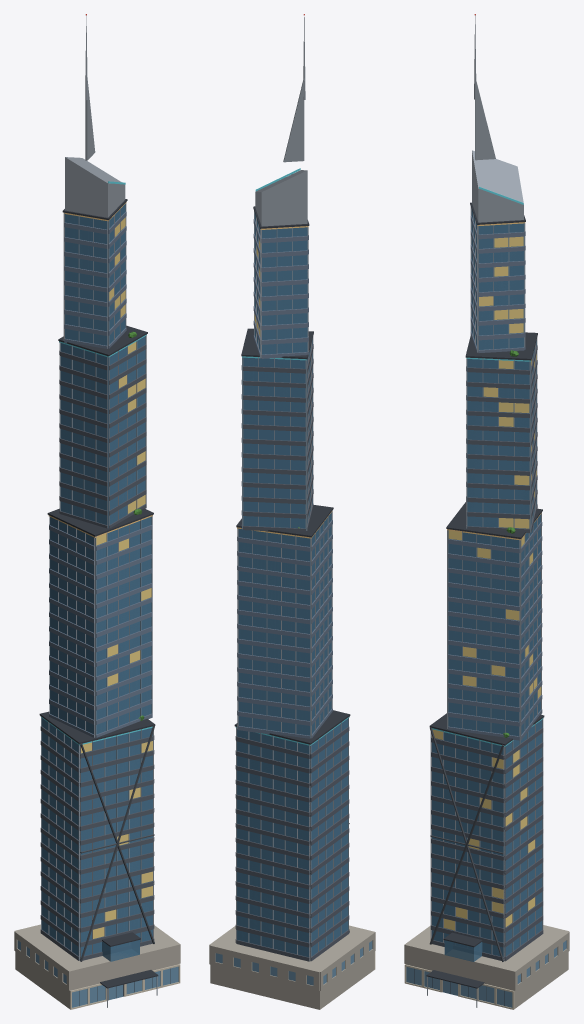
Rendered from BUILDING_20.obj.
The picture shows the model from 3 angles, left to right: view 1: azimuth 30°, elevation 25°; view 2: azimuth 150°, elevation 25°; view 3: azimuth 330°, elevation 25°; orthographic projection.
Visible parts, largest first — view 1: facade_floor02, facade_floor17, facade_floor31, mullions, facade_floor43, podium, crown, exoskeleton, storefront_glass, walls_floor01, sky_lobby, tier0_cap (+46 smaller); view 2: facade_floor02, facade_floor17, facade_floor31, mullions, podium, facade_floor43, walls_floor01, crown, crown_fin, tier1_cap, windows_floor01, tier0_cap (+39 smaller); view 3: facade_floor02, facade_floor17, mullions, facade_floor31, podium, facade_floor43, crown, exoskeleton, storefront_glass, walls_floor01, crown_fin, sky_lobby (+48 smaller).
Part boxes in pixels (bbox=[...]): facade_floor02: bbox=[40, 718, 154, 960]; facade_floor17: bbox=[49, 516, 152, 737]; facade_floor31: bbox=[59, 336, 146, 528]; mullions: bbox=[41, 203, 153, 960]; facade_floor43: bbox=[64, 204, 126, 348]; podium: bbox=[15, 925, 179, 1008]; crown: bbox=[65, 157, 125, 217]; exoskeleton: bbox=[80, 725, 154, 961]; storefront_glass: bbox=[72, 966, 178, 1007]; walls_floor01: bbox=[14, 924, 180, 990]; sky_lobby: bbox=[102, 932, 140, 961]; tier0_cap: bbox=[39, 711, 155, 744]; facade_floor02: bbox=[235, 718, 349, 961]; facade_floor17: bbox=[237, 512, 332, 738]; facade_floor31: bbox=[241, 339, 313, 531]; mullions: bbox=[236, 211, 348, 961]; podium: bbox=[210, 925, 374, 1009]; facade_floor43: bbox=[253, 213, 308, 358]; walls_floor01: bbox=[209, 926, 375, 990]; crown: bbox=[255, 168, 307, 226]; crown_fin: bbox=[283, 78, 304, 162]; tier1_cap: bbox=[236, 505, 333, 537]; windows_floor01: bbox=[215, 941, 372, 985]; tier0_cap: bbox=[234, 710, 350, 744]; facade_floor02: bbox=[430, 720, 543, 960]; facade_floor17: bbox=[448, 514, 542, 740]; mullions: bbox=[430, 206, 543, 961]; facade_floor31: bbox=[466, 340, 537, 533]; podium: bbox=[405, 925, 568, 1008]; facade_floor43: bbox=[470, 209, 525, 352]; crown: bbox=[472, 150, 523, 222]; exoskeleton: bbox=[429, 727, 504, 961]; storefront_glass: bbox=[406, 967, 512, 1007]; walls_floor01: bbox=[404, 925, 569, 990]; crown_fin: bbox=[475, 77, 495, 160]; sky_lobby: bbox=[443, 932, 482, 961].
Bounding box in the file's own units: 30.56 × 253 × 30.08.
